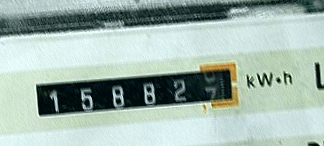1: (48, 86, 62, 113)
2: (171, 76, 189, 102)
5: (79, 85, 95, 112)
7: (203, 83, 219, 101)
8: (109, 82, 127, 108), (141, 79, 158, 106)
screen: (25, 55, 248, 130)
